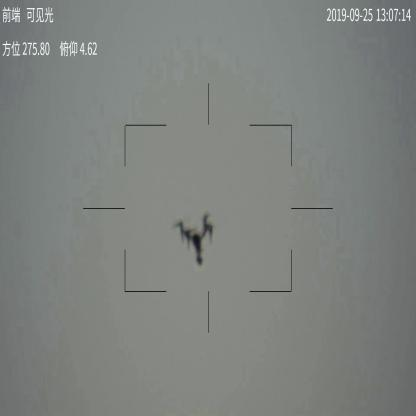uav: (174, 210, 214, 271)
